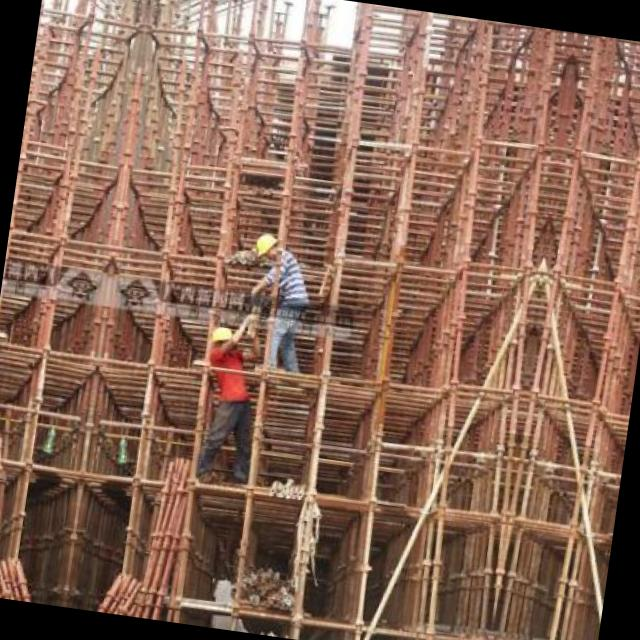helmet: (204, 321, 238, 357), (250, 226, 280, 266)
